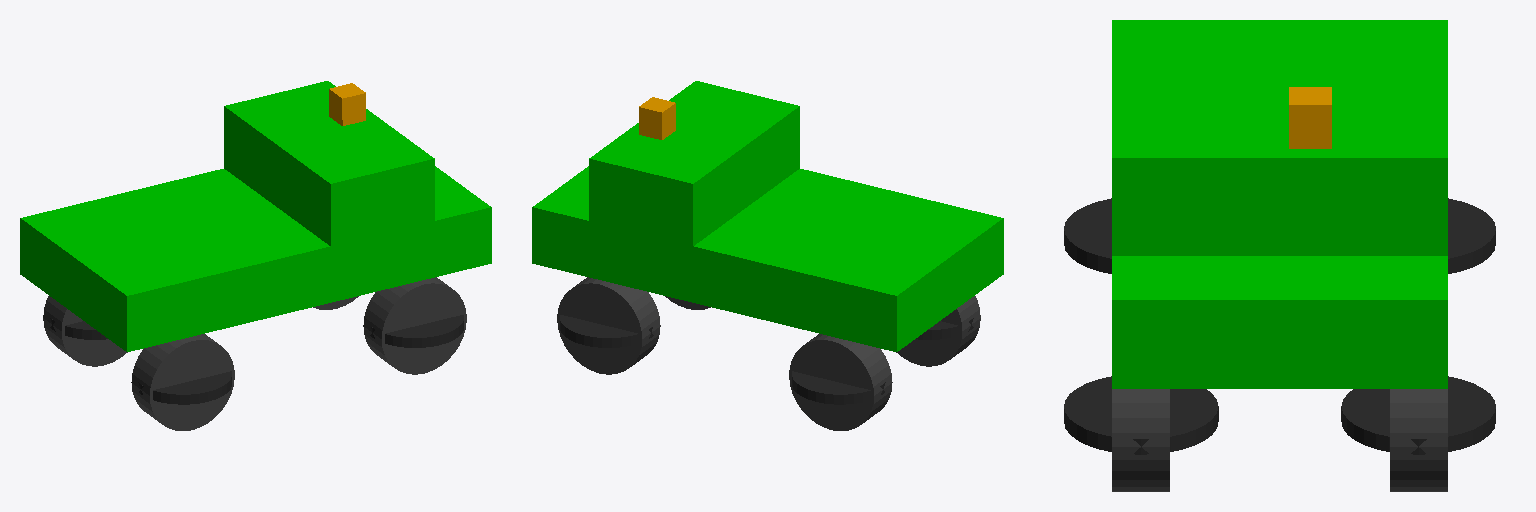
--- What the picture shows (computed from the rendered views, not written in the file) ---
3 views of the same robot in one strip: view 1: azimuth 30°, elevation 25°; view 2: azimuth 150°, elevation 25°; view 3: azimuth 270°, elevation 25° (orthographic).
Robot: rccar — 25 links, 24 joints (2 revolute, 4 continuous, 18 fixed); root link base_link; default pose: every joint at zero.
Visible links, largest first — view 1: base_link, front_right_wheel, rear_right_wheel, rear_left_wheel, rear_right_mount, front_right_mount, realsense_link, rear_left_mount; view 2: base_link, front_left_wheel, rear_left_wheel, rear_right_wheel, rear_left_mount, front_left_mount, realsense_link, rear_right_mount; view 3: base_link, front_left_wheel, front_right_wheel, front_left_mount, front_right_mount, rear_left_mount, rear_right_mount, realsense_link.
Boxes of the visible links, box(x1,y1,x2,y2) form: base_link: box(20, 81, 491, 351); front_right_wheel: box(363, 277, 466, 374); rear_right_wheel: box(131, 334, 234, 430); rear_left_wheel: box(43, 296, 127, 366); rear_right_mount: box(138, 371, 231, 404); front_right_mount: box(370, 315, 463, 347); realsense_link: box(329, 83, 365, 125); rear_left_mount: box(50, 318, 107, 339); base_link: box(532, 81, 1003, 351); front_left_wheel: box(557, 277, 660, 374); rear_left_wheel: box(789, 334, 892, 430); rear_right_wheel: box(896, 296, 980, 366); rear_left_mount: box(792, 371, 885, 404); front_left_mount: box(560, 315, 653, 347); realsense_link: box(639, 97, 675, 139); rear_right_mount: box(916, 318, 973, 339); base_link: box(1112, 20, 1447, 388); front_left_wheel: box(1390, 389, 1447, 491); front_right_wheel: box(1112, 389, 1169, 491); front_left_mount: box(1341, 376, 1495, 454); front_right_mount: box(1064, 376, 1218, 454); rear_left_mount: box(1448, 198, 1495, 273); rear_right_mount: box(1064, 198, 1111, 273); realsense_link: box(1289, 87, 1331, 148).
Bounding box of the posed robot: 0.385 × 0.2515 × 0.2425 m (x, y, z).
Geometry: primitives only (box / cylinder / sphere), no mesh files.

URDF robot description (rccar):
<?xml version="1.0" ?>
<!-- =================================================================================== -->
<!-- |    This document was autogenerated by xacro from rccar.urdf.xacro               | -->
<!-- |    EDITING THIS FILE BY HAND IS NOT RECOMMENDED                                 | -->
<!-- =================================================================================== -->
<robot name="rccar">
  <material name="black">
    <color rgba="0.0 0.0 0.0 1.0"/>
  </material>
  <material name="dark">
    <color rgba="0.3 0.3 0.3 1.0"/>
  </material>
  <material name="light_black">
    <color rgba="0.4 0.4 0.4 1.0"/>
  </material>
  <material name="blue">
    <color rgba="0.0 0.0 0.8 1.0"/>
  </material>
  <material name="green">
    <color rgba="0.0 0.8 0.0 1.0"/>
  </material>
  <material name="grey">
    <color rgba="0.2 0.2 0.2 1.0"/>
  </material>
  <material name="darkgrey">
    <color rgba="0.3 0.3 0.3 1.0"/>
  </material>
  <material name="orange">
    <color rgba="1.0 0.4235294117647059 0.0392156862745098 1.0"/>
  </material>
  <material name="brown">
    <color rgba="0.8705882352941177 0.8117647058823529 0.7647058823529411 1.0"/>
  </material>
  <material name="red">
    <color rgba="0.8 0.0 0.0 1.0"/>
  </material>
  <material name="white">
    <color rgba="1.0 1.0 1.0 1.0"/>
  </material>
  <material name="aluminum">
    <color rgba="0.5 0.5 0.5 1"/>
  </material>
  <material name="plastic">
    <color rgba="0.1 0.1 0.1 1"/>
  </material>
  <gazebo reference="base_link">
    <material>Gazebo/Green</material>
  </gazebo>
  <gazebo reference="gps_link">
    <material>Gazebo/Black</material>
    <sensor name="ublox_gps" type="gps">
      <always_on>true</always_on>
      <update_rate>5.0</update_rate>
      <!--
      <gps>
        <position_sensing>
          <horizontal>
            <noise type="gaussian">
              <mean>0.0</mean>
              <stddev>1e-2</stddev>
            </noise>
          </horizontal>
          <vertical>
            <noise type="gaussian">
              <mean>0.0</mean>
              <stddev>1</stddev>
            </noise>
          </vertical>
        </position_sensing>
      </gps>
      -->
      <plugin filename="libgazebo_ros_gps_sensor.so" name="gazebo_ros_gps_sensor">
        <frame_name>gps_link</frame_name>
        <ros>
          <remapping>~/out:=/gnss/fix</remapping>
        </ros>
      </plugin>
    </sensor>
  </gazebo>
  <!--<gazebo reference="camera_imu_optical_frame">-->
  <gazebo reference="camera_gyro_optical_frame">
    <gravity>true</gravity>
    <sensor name="camera_imu" type="imu">
      <always_on>true</always_on>
      <update_rate>200</update_rate>
      <plugin filename="libgazebo_ros_imu_sensor.so" name="imu_plugin">
        <frame_name>camera_gyro_optical_frame</frame_name>
        <ros>
          <remapping>~/out:=/camera/imu_raw</remapping>
        </ros>
      </plugin>
    </sensor>
  </gazebo>
  <link name="realsense_link">
    <visual>
      <origin rpy="-1.57 0 -1.57" xyz="0.0 0.0 0.0"/>
      <geometry>
        <box size="0.02505 0.09 0.025"/>
      </geometry>
      <!--
      <geometry>
        <mesh filename="file://$(find realsense2_description)/meshes/d435.dae" />
      </geometry>
      -->
    </visual>
    <collision>
      <origin rpy="-1.57 0 -1.57" xyz="0.0 0.0 0.0"/>
      <geometry>
        <box size="0.02505 0.09 0.025"/>
      </geometry>
      <!--
      <geometry>
        <mesh filename="file://$(find realsense2_description)/meshes/d435.dae" />
      </geometry>
      -->
    </collision>
    <inertial>
      <mass value="0.564"/>
      <inertia ixx="0.001" ixy="0.000" ixz="0.000" iyy="0.001" iyz="0.000" izz="0.001"/>
    </inertial>
  </link>
  <joint name="realsense_joint" type="fixed">
    <parent link="camera_link"/>
    <child link="realsense_link"/>
    <axis rpy="0 0 0" xyz="0 0 0"/>
    <origin rpy="0 0 0" xyz="0 0 0"/>
  </joint>
  <gazebo reference="realsense_link">
    <sensor name="cameradepth" type="depth">
      <camera name="camera">
        <horizontal_fov>1.57</horizontal_fov>
        <image>
          <width>640</width>
          <height>480</height>
        </image>
        <clip>
          <near>0.1</near>
          <far>100</far>
        </clip>
        <noise>
          <type>gaussian</type>
          <mean>0.0</mean>
          <stddev>0.100</stddev>
        </noise>
      </camera>
      <always_on>1</always_on>
      <update_rate>30</update_rate>
      <visualize>0</visualize>
    </sensor>
    <sensor name="cameracolor" type="camera">
      <camera name="camera">
        <horizontal_fov>1.57</horizontal_fov>
        <image>
          <width>640</width>
          <height>480</height>
          <format>RGB_INT8</format>
        </image>
        <clip>
          <near>0.1</near>
          <far>100</far>
        </clip>
        <noise>
          <type>gaussian</type>
          <mean>0.0</mean>
          <stddev>0.007</stddev>
        </noise>
      </camera>
      <always_on>1</always_on>
      <update_rate>30</update_rate>
      <visualize>1</visualize>
    </sensor>
    <sensor name="cameraired1" type="camera">
      <camera name="camera">
        <horizontal_fov>1.57</horizontal_fov>
        <image>
          <width>640</width>
          <height>480</height>
          <format>L_INT8</format>
        </image>
        <clip>
          <near>0.1</near>
          <far>100</far>
        </clip>
        <noise>
          <type>gaussian</type>
          <mean>0.0</mean>
          <stddev>0.05</stddev>
        </noise>
      </camera>
      <always_on>1</always_on>
      <update_rate>1</update_rate>
      <visualize>0</visualize>
    </sensor>
    <sensor name="cameraired2" type="camera">
      <camera name="camera">
        <horizontal_fov>1.57</horizontal_fov>
        <image>
          <width>640</width>
          <height>480</height>
          <format>L_INT8</format>
        </image>
        <clip>
          <near>0.1</near>
          <far>100</far>
        </clip>
        <noise>
          <type>gaussian</type>
          <mean>0.0</mean>
          <stddev>0.05</stddev>
        </noise>
      </camera>
      <always_on>1</always_on>
      <update_rate>1</update_rate>
      <visualize>0</visualize>
    </sensor>
  </gazebo>
  <gazebo reference="realsense_joint">
    <disableFixedJointLumping>true</disableFixedJointLumping>
    <preserveFixedJoint>true</preserveFixedJoint>
  </gazebo>
  <gazebo>
    <plugin filename="librealsense_gazebo_plugin.so" name="gazebo_realsense">
      <prefix>camera</prefix>
      <depthUpdateRate>30.0</depthUpdateRate>
      <colorUpdateRate>30.0</colorUpdateRate>
      <infraredUpdateRate>1.0</infraredUpdateRate>
      <depthTopicName>camera/depth/image_rect_raw</depthTopicName>
      <depthCameraInfoTopicName>camera/depth/camera_info</depthCameraInfoTopicName>
      <colorTopicName>camera/color/image_raw</colorTopicName>
      <colorCameraInfoTopicName>camera/color/camera_info</colorCameraInfoTopicName>
      <infrared1TopicName>camera/infra1/image_raw</infrared1TopicName>
      <infrared1CameraInfoTopicName>camera/infra1/camera_info</infrared1CameraInfoTopicName>
      <infrared2TopicName>camera/infra2/image_raw</infrared2TopicName>
      <infrared2CameraInfoTopicName>camera/infra2/camera_info</infrared2CameraInfoTopicName>
      <colorOpticalframeName>camera_color_optical_frame</colorOpticalframeName>
      <depthOpticalframeName>camera_depth_optical_frame</depthOpticalframeName>
      <infrared1OpticalframeName>camera_left_ir_optical_frame</infrared1OpticalframeName>
      <infrared2OpticalframeName>camera_right_ir_optical_frame</infrared2OpticalframeName>
      <rangeMinDepth>0.3</rangeMinDepth>
      <rangeMaxDepth>3.0</rangeMaxDepth>
      <pointCloud>true</pointCloud>
      <pointCloudTopicName>camera/depth/color/points</pointCloudTopicName>
      <pointCloudCutoff>0.3</pointCloudCutoff>
    </plugin>
  </gazebo>
  <gazebo>
    <plugin filename="libgazebo_ros_ackermann_drive.so" name="gazebo_ros_ackermann_drive">
      <ros>
        <remapping>cmd_vel:=cmd_vel</remapping>
        <remapping>odom:=odometry/simulation</remapping>
        <remapping>distance:=distance</remapping>
      </ros>
      <!--<update_rate>33.3</update_rate>-->
      <!--<update_rate>10.0</update_rate>-->
      <update_rate>100.0</update_rate>
      <!-- wheels -->
      <front_left_joint>front_left_wheel_joint</front_left_joint>
      <front_right_joint>front_right_wheel_joint</front_right_joint>
      <rear_left_joint>rear_left_wheel_joint</rear_left_joint>
      <rear_right_joint>rear_right_wheel_joint</rear_right_joint>
      <left_steering_joint>front_left_mount_joint</left_steering_joint>
      <right_steering_joint>front_right_mount_joint</right_steering_joint>
      <!--<steering_wheel_joint>steering_joint</steering_wheel_joint>-->
      <!-- Max absolute steer angle for tyre in radians-->
      <!-- Any cmd_vel angular z greater than this would be capped -->
      <max_steer>0.6458</max_steer>
      <!-- Max absolute steering angle of steering wheel -->
      <max_steering_angle>7.85</max_steering_angle>
      <!-- Max absolute linear speed in m/s -->
      <max_speed>2.0</max_speed>
      <!-- PID tuning -->
      <left_steering_pid_gain>6 0 0</left_steering_pid_gain>
      <left_steering_i_range>0 0</left_steering_i_range>
      <right_steering_pid_gain>6 0 0</right_steering_pid_gain>
      <right_steering_i_range>0 0</right_steering_i_range>
      <linear_velocity_pid_gain>10 0 0</linear_velocity_pid_gain>
      <linear_velocity_i_range>0 0</linear_velocity_i_range>
      <!-- output -->
      <publish_odom>true</publish_odom>
      <publish_odom_tf>false</publish_odom_tf>
      <publish_wheel_tf>true</publish_wheel_tf>
      <publish_distance>true</publish_distance>
      <odometry_frame>odom</odometry_frame>
      <robot_base_frame>base_link</robot_base_frame>
    </plugin>
  </gazebo>
  <link name="base_link">
    <visual>
      <origin rpy="0 0 0" xyz="0.0 0.0 0.123"/>
      <geometry>
        <box size="0.385 0.195 0.057"/>
      </geometry>
      <material name="green"/>
    </visual>
    <visual>
      <origin rpy="0 0 0" xyz="0.0775 0.0 0.183"/>
      <geometry>
        <box size="0.110 0.195 0.063"/>
      </geometry>
      <material name="green"/>
    </visual>
    <collision>
      <origin rpy="0 0 0" xyz="-0.1925 -0.0975 0.0945"/>
      <geometry>
        <box size="0.385 0.195 0.120"/>
      </geometry>
    </collision>
    <inertial>
      <mass value="1.5"/>
      <inertia ixx="0.006553125" ixy="0" ixz="0" iyy="0.020328125" iyz="0" izz="0.02328125"/>
    </inertial>
  </link>
  <link name="gps_link">
    <visual>
      <origin rpy="0 0 0" xyz="0.0 0.0 0.0"/>
      <geometry>
        <box size="0.055 0.060 0.0225"/>
      </geometry>
      <material name="black"/>
    </visual>
  </link>
  <joint name="base_link_to_gps_link" type="fixed">
    <parent link="base_link"/>
    <child link="gps_link"/>
    <origin rpy="0 0 0" xyz="-0.1375 0.0 0.125"/>
  </joint>
  <!--
  <link name="camera_link">
    <visual>
      <origin xyz="0.0 0.0 0.0" rpy="0 0 0" />
      <geometry>
        <box size="0.025 0.090 0.025" />
      </geometry>
      <material name="white"/>
    </visual>
  </link>

  <joint name="base_link_to_camera_link" type="fixed">
    <parent link="base_link"/>
    <child link="camera_link" />
    <origin xyz="0.09615 0.0 0.185" rpy="0 0 0"/>
  </joint>
  -->
  <!-- camera body, with origin at bottom screw mount -->
  <joint name="camera_joint" type="fixed">
    <origin rpy="0 0 0" xyz="0.09615 0.0 0.185"/>
    <parent link="base_link"/>
    <child link="camera_bottom_screw_frame"/>
  </joint>
  <link name="camera_bottom_screw_frame"/>
  <joint name="camera_link_joint" type="fixed">
    <origin rpy="0 0 0" xyz="0.010600000000000002 0.0175 0.0125"/>
    <parent link="camera_bottom_screw_frame"/>
    <child link="camera_link"/>
  </joint>
  <link name="camera_link">
    <visual>
      <origin rpy="0 0 0" xyz="0 -0.0175 0"/>
      <geometry>
        <box size="0.02505 0.09 0.025"/>
      </geometry>
      <material name="aluminum"/>
    </visual>
    <collision>
      <origin rpy="0 0 0" xyz="0 -0.0175 0"/>
      <geometry>
        <box size="0.02505 0.09 0.025"/>
      </geometry>
    </collision>
    <inertial>
      <!-- The following are not reliable values, and should not be used for modeling -->
      <mass value="0.072"/>
      <origin xyz="0 0 0"/>
      <inertia ixx="0.003881243" ixy="0.0" ixz="0.0" iyy="0.000498940" iyz="0.0" izz="0.003879257"/>
    </inertial>
  </link>
  <!-- camera depth joints and links -->
  <joint name="camera_depth_joint" type="fixed">
    <origin rpy="0 0 0" xyz="0 0 0"/>
    <parent link="camera_link"/>
    <child link="camera_depth_frame"/>
  </joint>
  <link name="camera_depth_frame"/>
  <joint name="camera_depth_optical_joint" type="fixed">
    <origin rpy="-1.5707963267948966 0 -1.5707963267948966" xyz="0 0 0"/>
    <parent link="camera_depth_frame"/>
    <child link="camera_depth_optical_frame"/>
  </joint>
  <link name="camera_depth_optical_frame"/>
  <!-- camera left IR joints and links -->
  <joint name="camera_infra1_joint" type="fixed">
    <origin rpy="0 0 0" xyz="0 0.0 0"/>
    <parent link="camera_link"/>
    <child link="camera_infra1_frame"/>
  </joint>
  <link name="camera_infra1_frame"/>
  <joint name="camera_infra1_optical_joint" type="fixed">
    <origin rpy="-1.5707963267948966 0 -1.5707963267948966" xyz="0 0 0"/>
    <parent link="camera_infra1_frame"/>
    <child link="camera_infra1_optical_frame"/>
  </joint>
  <link name="camera_infra1_optical_frame"/>
  <!-- camera right IR joints and links -->
  <joint name="camera_infra2_joint" type="fixed">
    <origin rpy="0 0 0" xyz="0 -0.05 0"/>
    <parent link="camera_link"/>
    <child link="camera_infra2_frame"/>
  </joint>
  <link name="camera_infra2_frame"/>
  <joint name="camera_infra2_optical_joint" type="fixed">
    <origin rpy="-1.5707963267948966 0 -1.5707963267948966" xyz="0 0 0"/>
    <parent link="camera_infra2_frame"/>
    <child link="camera_infra2_optical_frame"/>
  </joint>
  <link name="camera_infra2_optical_frame"/>
  <!-- camera color joints and links -->
  <joint name="camera_color_joint" type="fixed">
    <origin rpy="0 0 0" xyz="0 0.015 0"/>
    <parent link="camera_link"/>
    <child link="camera_color_frame"/>
  </joint>
  <link name="camera_color_frame"/>
  <joint name="camera_color_optical_joint" type="fixed">
    <origin rpy="-1.5707963267948966 0 -1.5707963267948966" xyz="0 0 0"/>
    <parent link="camera_color_frame"/>
    <child link="camera_color_optical_frame"/>
  </joint>
  <link name="camera_color_optical_frame"/>
  <link name="camera_accel_frame"/>
  <link name="camera_accel_optical_frame"/>
  <link name="camera_gyro_frame"/>
  <link name="camera_gyro_optical_frame"/>
  <joint name="camera_accel_joint" type="fixed">
    <origin rpy="0 0 0" xyz="-0.01174 -0.00552 0.0051"/>
    <parent link="camera_link"/>
    <child link="camera_accel_frame"/>
  </joint>
  <joint name="camera_accel_optical_joint" type="fixed">
    <origin rpy="-1.5707963267948966 0 -1.5707963267948966" xyz="0 0 0"/>
    <parent link="camera_accel_frame"/>
    <child link="camera_accel_optical_frame"/>
  </joint>
  <joint name="camera_gyro_joint" type="fixed">
    <origin rpy="0 0 0" xyz="-0.01174 -0.00552 0.0051"/>
    <parent link="camera_link"/>
    <child link="camera_gyro_frame"/>
  </joint>
  <joint name="camera_gyro_optical_joint" type="fixed">
    <origin rpy="-1.5707963267948966 0 -1.5707963267948966" xyz="0 0 0"/>
    <parent link="camera_gyro_frame"/>
    <child link="camera_gyro_optical_frame"/>
  </joint>
  <link name="front_left_mount">
    <visual>
      <origin rpy="0 0 0" xyz="0.0 0.0 0.0"/>
      <geometry>
        <cylinder length="0.01" radius="0.045"/>
      </geometry>
      <material name="grey"/>
    </visual>
    <collision>
      <origin rpy="0 0 0" xyz="0.0 0.0 0.0"/>
      <geometry>
        <cylinder length="0.01" radius="0.045"/>
      </geometry>
    </collision>
    <inertial>
      <mass value="8.0"/>
      <inertia ixx="0.01" ixy="0.0" ixz="0.0" iyy="0.01" iyz="0.0" izz="0.01"/>
    </inertial>
  </link>
  <joint name="front_left_mount_joint" type="revolute">
    <parent link="base_link"/>
    <child link="front_left_mount"/>
    <axis rpy="0 0 0" xyz="0 0 1"/>
    <origin rpy="0 0 0" xyz="0.1215 0.08075 0.045"/>
    <!--<dynamics damping="0.0" friction="0.01" />-->
    <limit effort="4.2" lower="-0.6458" upper="0.6458" velocity="6.28"/>
    <!--<limit lower="-0.6458" upper="0.6458" effort="0.5" velocity="6.28" />-->
  </joint>
  <link name="front_left_wheel">
    <visual>
      <origin rpy="1.570796 0 0" xyz="0.0 0.0 0.0"/>
      <geometry>
        <cylinder length="0.0335" radius="0.045"/>
      </geometry>
      <material name="darkgrey"/>
    </visual>
    <collision>
      <origin rpy="1.570796 0 0" xyz="0.0 0.0 0.0"/>
      <geometry>
        <cylinder length="0.0335" radius="0.045"/>
      </geometry>
    </collision>
    <inertial>
      <mass value="0.5"/>
      <inertia ixx="0.01" ixy="0.0" ixz="0.0" iyy="0.01" iyz="0.0" izz="0.01"/>
    </inertial>
    <!--
      <inertial>
        <mass value="0.1" />
        <xacro:cylinder_inertia m="0.1" r="${wheel_diameter/2}" h="${wheel_thickness}" />
      </inertial>
      -->
  </link>
  <joint name="front_left_wheel_joint" type="continuous">
    <parent link="front_left_mount"/>
    <child link="front_left_wheel"/>
    <axis rpy="0 0 0" xyz="0 1 0"/>
    <origin rpy="0 0 0" xyz="0.0 0.0 0.0"/>
    <!--<dynamics damping="0.0" friction="0.01" />-->
  </joint>
  <gazebo reference="front_left_mount">
    <material>Gazebo/Grey</material>
  </gazebo>
  <gazebo reference="front_left_wheel">
    <material>Gazebo/DarkGrey</material>
  </gazebo>
  <link name="front_right_mount">
    <visual>
      <origin rpy="0 0 0" xyz="0.0 0.0 0.0"/>
      <geometry>
        <cylinder length="0.01" radius="0.045"/>
      </geometry>
      <material name="grey"/>
    </visual>
    <collision>
      <origin rpy="0 0 0" xyz="0.0 0.0 0.0"/>
      <geometry>
        <cylinder length="0.01" radius="0.045"/>
      </geometry>
    </collision>
    <inertial>
      <mass value="8.0"/>
      <inertia ixx="0.01" ixy="0.0" ixz="0.0" iyy="0.01" iyz="0.0" izz="0.01"/>
    </inertial>
  </link>
  <joint name="front_right_mount_joint" type="revolute">
    <parent link="base_link"/>
    <child link="front_right_mount"/>
    <axis rpy="0 0 0" xyz="0 0 1"/>
    <origin rpy="0 0 0" xyz="0.1215 -0.08075 0.045"/>
    <!--<dynamics damping="0.0" friction="0.01" />-->
    <limit effort="4.2" lower="-0.6458" upper="0.6458" velocity="6.28"/>
    <!--<limit lower="-0.6458" upper="0.6458" effort="0.5" velocity="6.28" />-->
  </joint>
  <link name="front_right_wheel">
    <visual>
      <origin rpy="1.570796 0 0" xyz="0.0 0.0 0.0"/>
      <geometry>
        <cylinder length="0.0335" radius="0.045"/>
      </geometry>
      <material name="darkgrey"/>
    </visual>
    <collision>
      <origin rpy="1.570796 0 0" xyz="0.0 0.0 0.0"/>
      <geometry>
        <cylinder length="0.0335" radius="0.045"/>
      </geometry>
    </collision>
    <inertial>
      <mass value="0.5"/>
      <inertia ixx="0.01" ixy="0.0" ixz="0.0" iyy="0.01" iyz="0.0" izz="0.01"/>
    </inertial>
    <!--
      <inertial>
        <mass value="0.1" />
        <xacro:cylinder_inertia m="0.1" r="${wheel_diameter/2}" h="${wheel_thickness}" />
      </inertial>
      -->
  </link>
  <joint name="front_right_wheel_joint" type="continuous">
    <parent link="front_right_mount"/>
    <child link="front_right_wheel"/>
    <axis rpy="0 0 0" xyz="0 1 0"/>
    <origin rpy="0 0 0" xyz="0.0 0.0 0.0"/>
    <!--<dynamics damping="0.0" friction="0.01" />-->
  </joint>
  <gazebo reference="front_right_mount">
    <material>Gazebo/Grey</material>
  </gazebo>
  <gazebo reference="front_right_wheel">
    <material>Gazebo/DarkGrey</material>
  </gazebo>
  <link name="rear_left_mount">
    <visual>
      <origin rpy="0 0 0" xyz="0.0 0.0 0.0"/>
      <geometry>
        <cylinder length="0.01" radius="0.045"/>
      </geometry>
      <material name="grey"/>
    </visual>
    <collision>
      <origin rpy="0 0 0" xyz="0.0 0.0 0.0"/>
      <geometry>
        <cylinder length="0.01" radius="0.045"/>
      </geometry>
    </collision>
    <inertial>
      <mass value="8.0"/>
      <inertia ixx="0.01" ixy="0.0" ixz="0.0" iyy="0.01" iyz="0.0" izz="0.01"/>
    </inertial>
  </link>
  <joint name="rear_left_mount_joint" type="fixed">
    <parent link="base_link"/>
    <child link="rear_left_mount"/>
    <axis rpy="0 0 0" xyz="0 0 1"/>
    <origin rpy="0 0 0" xyz="-0.1235 0.08075 0.045"/>
    <!--<dynamics damping="0.0" friction="0.01" />-->
    <limit effort="4.2" lower="-0.6458" upper="0.6458" velocity="6.28"/>
    <!--<limit lower="-0.6458" upper="0.6458" effort="0.5" velocity="6.28" />-->
  </joint>
  <link name="rear_left_wheel">
    <visual>
      <origin rpy="1.570796 0 0" xyz="0.0 0.0 0.0"/>
      <geometry>
        <cylinder length="0.0335" radius="0.045"/>
      </geometry>
      <material name="darkgrey"/>
    </visual>
    <collision>
      <origin rpy="1.570796 0 0" xyz="0.0 0.0 0.0"/>
      <geometry>
        <cylinder length="0.0335" radius="0.045"/>
      </geometry>
    </collision>
    <inertial>
      <mass value="0.5"/>
      <inertia ixx="0.01" ixy="0.0" ixz="0.0" iyy="0.01" iyz="0.0" izz="0.01"/>
    </inertial>
    <!--
      <inertial>
        <mass value="0.1" />
        <xacro:cylinder_inertia m="0.1" r="${wheel_diameter/2}" h="${wheel_thickness}" />
      </inertial>
      -->
  </link>
  <joint name="rear_left_wheel_joint" type="continuous">
    <parent link="rear_left_mount"/>
    <child link="rear_left_wheel"/>
    <axis rpy="0 0 0" xyz="0 1 0"/>
    <origin rpy="0 0 0" xyz="0.0 0.0 0.0"/>
    <!--<dynamics damping="0.0" friction="0.01" />-->
  </joint>
  <gazebo reference="rear_left_mount">
    <material>Gazebo/Grey</material>
  </gazebo>
  <gazebo reference="rear_left_wheel">
    <material>Gazebo/DarkGrey</material>
  </gazebo>
  <link name="rear_right_mount">
    <visual>
      <origin rpy="0 0 0" xyz="0.0 0.0 0.0"/>
      <geometry>
        <cylinder length="0.01" radius="0.045"/>
      </geometry>
      <material name="grey"/>
    </visual>
    <collision>
      <origin rpy="0 0 0" xyz="0.0 0.0 0.0"/>
      <geometry>
        <cylinder length="0.01" radius="0.045"/>
      </geometry>
    </collision>
    <inertial>
      <mass value="8.0"/>
      <inertia ixx="0.01" ixy="0.0" ixz="0.0" iyy="0.01" iyz="0.0" izz="0.01"/>
    </inertial>
  </link>
  <joint name="rear_right_mount_joint" type="fixed">
    <parent link="base_link"/>
    <child link="rear_right_mount"/>
    <axis rpy="0 0 0" xyz="0 0 1"/>
    <origin rpy="0 0 0" xyz="-0.1235 -0.08075 0.045"/>
    <!--<dynamics damping="0.0" friction="0.01" />-->
    <limit effort="4.2" lower="-0.6458" upper="0.6458" velocity="6.28"/>
    <!--<limit lower="-0.6458" upper="0.6458" effort="0.5" velocity="6.28" />-->
  </joint>
  <link name="rear_right_wheel">
    <visual>
      <origin rpy="1.570796 0 0" xyz="0.0 0.0 0.0"/>
      <geometry>
        <cylinder length="0.0335" radius="0.045"/>
      </geometry>
      <material name="darkgrey"/>
    </visual>
    <collision>
      <origin rpy="1.570796 0 0" xyz="0.0 0.0 0.0"/>
      <geometry>
        <cylinder length="0.0335" radius="0.045"/>
      </geometry>
    </collision>
    <inertial>
      <mass value="0.5"/>
      <inertia ixx="0.01" ixy="0.0" ixz="0.0" iyy="0.01" iyz="0.0" izz="0.01"/>
    </inertial>
    <!--
      <inertial>
        <mass value="0.1" />
        <xacro:cylinder_inertia m="0.1" r="${wheel_diameter/2}" h="${wheel_thickness}" />
      </inertial>
      -->
  </link>
  <joint name="rear_right_wheel_joint" type="continuous">
    <parent link="rear_right_mount"/>
    <child link="rear_right_wheel"/>
    <axis rpy="0 0 0" xyz="0 1 0"/>
    <origin rpy="0 0 0" xyz="0.0 0.0 0.0"/>
    <!--<dynamics damping="0.0" friction="0.01" />-->
  </joint>
  <gazebo reference="rear_right_mount">
    <material>Gazebo/Grey</material>
  </gazebo>
  <gazebo reference="rear_right_wheel">
    <material>Gazebo/DarkGrey</material>
  </gazebo>
</robot>
